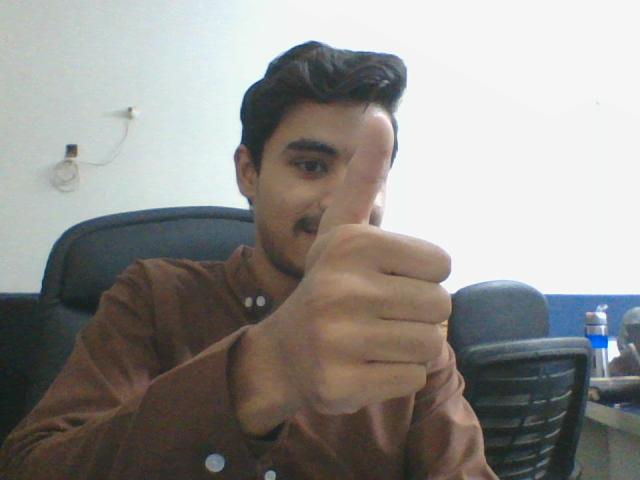thumbs-up: (288, 109, 452, 423)
